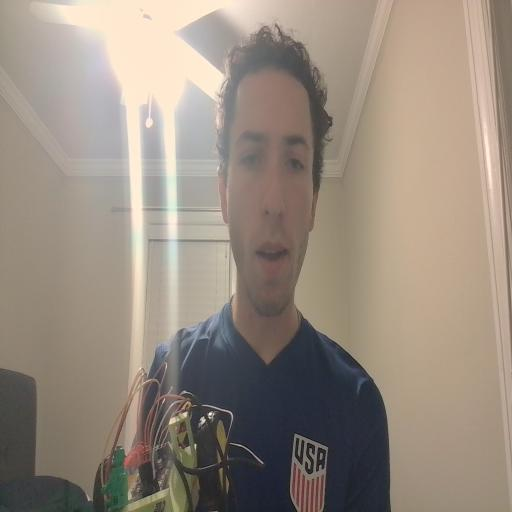green LEGO minifig: (100, 442, 130, 512)
